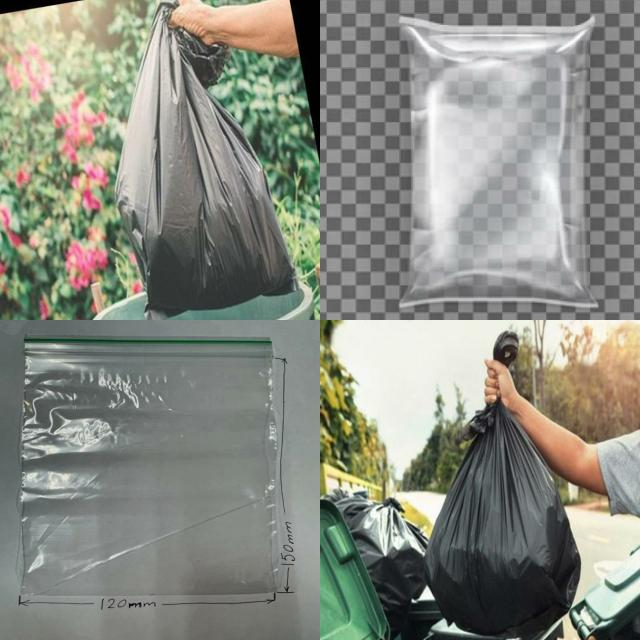Single-layer Plastic: (20, 341, 281, 595), (400, 18, 598, 312), (116, 2, 298, 316), (425, 401, 580, 635), (329, 490, 428, 634)
